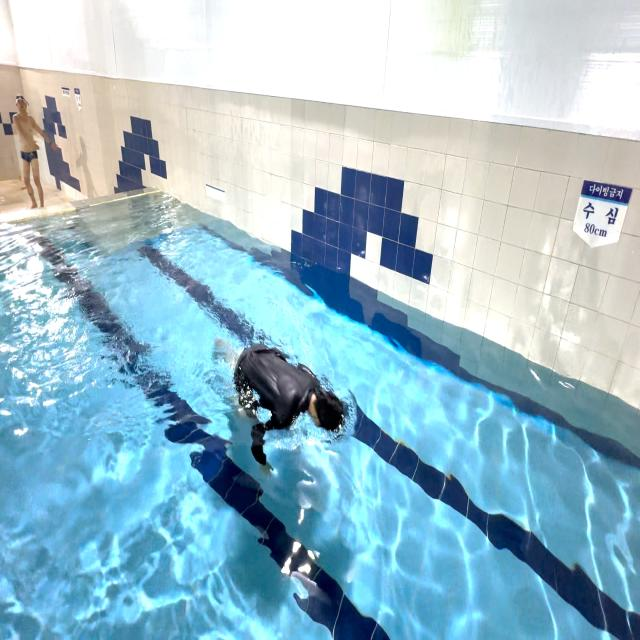Drowning: (212, 316, 353, 493)
